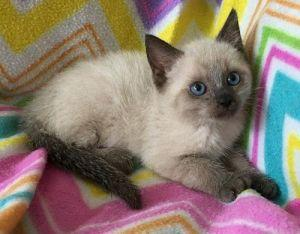siamese: (138, 7, 259, 137)
